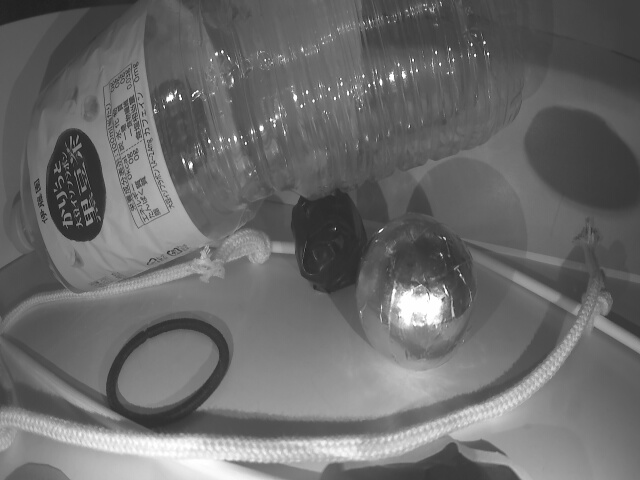Dead: (289, 189, 376, 294)
Live: (356, 214, 482, 369)
